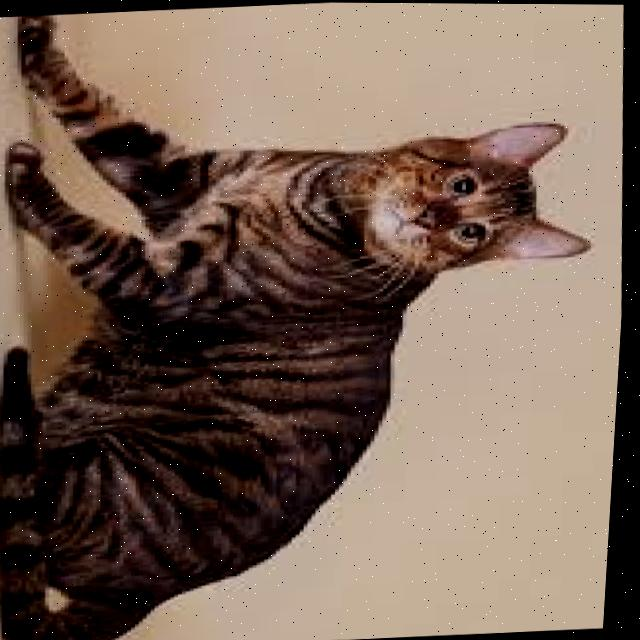Toyger: (0, 0, 633, 640)
